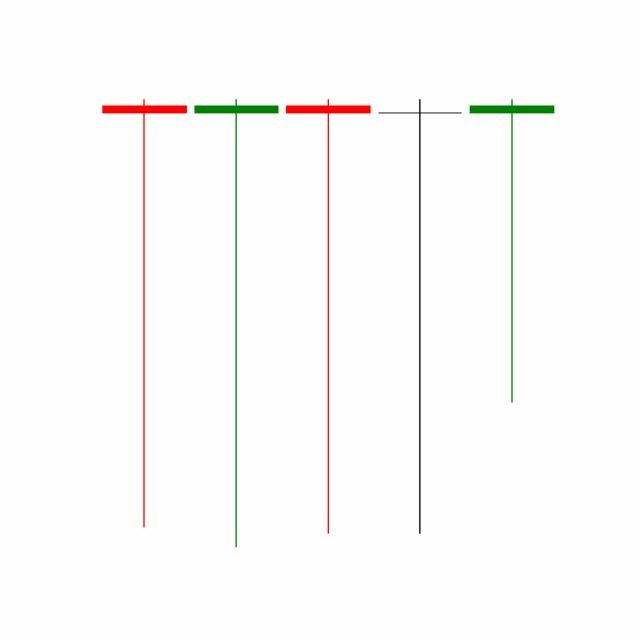Dragonfly Doji: (464, 95, 558, 405)
